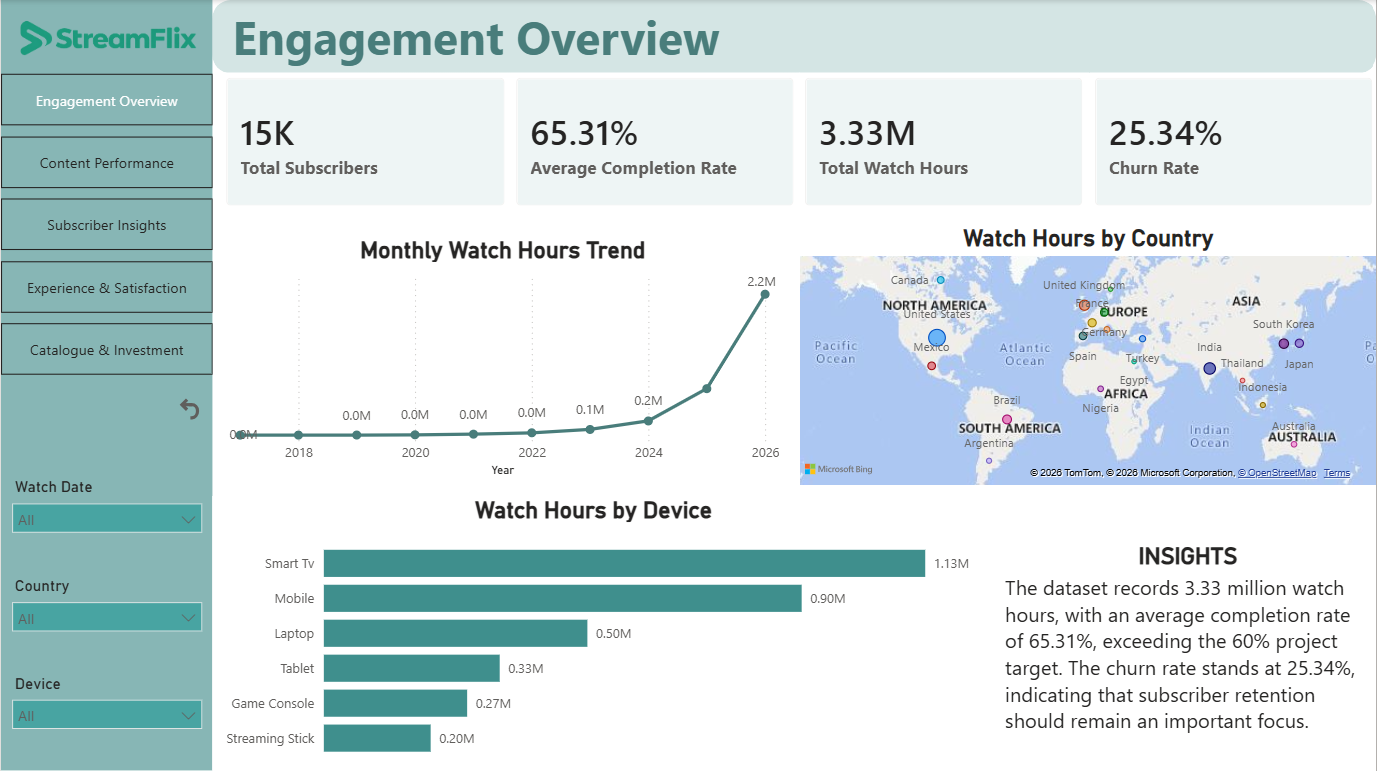

The page's visual inventory and layout, read from the dashboard file:
{"tool":"powerbi","page":{"name":"Engagement Overview","canvas":[1280,720],"ordinal":0},"visuals":[{"type":"cardVisual","fields":{"Data":["public subscribers.Total Subscribers"]},"box":[204.7,67.6,269.9,130],"z":0,"group":"g3"},{"type":"lineChart","title":"Monthly Watch Hours Trend","fields":{"Category":["public watch_history.watch_date.Variation.Date Hierarchy.Year","public watch_history.watch_date.Variation.Date Hierarchy.Quarter","public watch_history.watch_date.Variation.Date Hierarchy.Month","public watch_history.watch_date.Variation.Date Hierarchy.Day"],"Y":["public watch_history.Total Watch Hours"]},"box":[204.8,209,524.3,239.3],"z":0,"group":"g1"},{"type":"shape","box":[0,0,196.7,716.7],"z":1000},{"type":"cardVisual","fields":{"Data":["public subscribers.Churn Rate (%)"]},"box":[1012.5,67.4,269,130],"z":1000,"group":"g3"},{"type":"map","title":"Watch Hours by Country","fields":{"Category":["public subscribers.country"],"Series":["public subscribers.country"],"Size":["public watch_history.Total Watch Hours"]},"box":[743,209,537,241.9],"z":1000,"group":"g1"},{"type":"shape","box":[196.4,0,1083.6,68.2],"z":2000},{"type":"cardVisual","fields":{"Data":["public watch_history.Total Watch Hours"]},"box":[743.5,67.4,269,130],"z":2000,"group":"g3"},{"type":"textbox","box":[210,0,881.4,68.6],"z":3000},{"type":"cardVisual","fields":{"Data":["public watch_history.Average Completion Rate (%)"]},"box":[474.6,67.4,269,130],"z":3000,"group":"g3"},{"type":"image","box":[0,0,195.7,68.6],"z":4000},{"type":"pageNavigator","box":[0,68.6,197.1,281.4],"z":5000},{"type":"actionButton","box":[161.6,366.3,33.7,27.9],"z":6000},{"type":"slicer","fields":{"Values":["public subscribers.country"]},"box":[0,530.9,197.1,91.4],"z":6000,"group":"g2"},{"type":"group","id":"g1","title":"Group 2","box":[197,209,1083,509.3],"z":7000},{"type":"slicer","fields":{"Values":["public watch_history.device"]},"box":[0,622.4,197.1,91.4],"z":7000,"group":"g2"},{"type":"slicer","fields":{"Values":["public watch_history.watch_date"]},"box":[0,439.5,197.1,91.4],"z":8000,"group":"g2"},{"type":"group","id":"g2","title":"Group 3","box":[0,439.5,197.7,273.3],"z":8000},{"type":"group","id":"g3","title":"Group 1","box":[204.7,67.4,1076.7,130.2],"z":8001},{"type":"clusteredBarChart","title":"Watch Hours by Device","fields":{"Category":["public watch_history.device"],"Y":["public watch_history.Total Watch Hours"]},"box":[197,460.8,709.4,256.6],"z":10000,"group":"g1"},{"type":"textbox","title":"INSIGHTS","box":[929.6,493.9,350,224.4],"z":11000,"group":"g1"}]}

Visuals, with their boxes on the page's 1280x720 design canvas (x1, y1, x2, y2). These are canvas units, not pixel positions in the 1377x771 screenshot, which may show the page scaled, cropped or inside an application window:
cardVisual - public subscribers.Total Subscribers: bbox=[205, 68, 475, 198]
"Monthly Watch Hours Trend" lineChart: bbox=[205, 209, 729, 448]
shape: bbox=[0, 0, 197, 717]
cardVisual - public subscribers.Churn Rate (%): bbox=[1012, 67, 1282, 197]
"Watch Hours by Country" map: bbox=[743, 209, 1280, 451]
shape: bbox=[196, 0, 1280, 68]
cardVisual - public watch_history.Total Watch Hours: bbox=[744, 67, 1012, 197]
textbox: bbox=[210, 0, 1091, 69]
cardVisual - public watch_history.Average Completion Rate (%): bbox=[475, 67, 744, 197]
image: bbox=[0, 0, 196, 69]
pageNavigator: bbox=[0, 69, 197, 350]
actionButton: bbox=[162, 366, 195, 394]
slicer - public subscribers.country: bbox=[0, 531, 197, 622]
"Group 2" group: bbox=[197, 209, 1280, 718]
slicer - public watch_history.device: bbox=[0, 622, 197, 714]
slicer - public watch_history.watch_date: bbox=[0, 440, 197, 531]
"Group 3" group: bbox=[0, 440, 198, 713]
"Group 1" group: bbox=[205, 67, 1281, 198]
"Watch Hours by Device" clusteredBarChart: bbox=[197, 461, 906, 717]
"INSIGHTS" textbox: bbox=[930, 494, 1280, 718]
